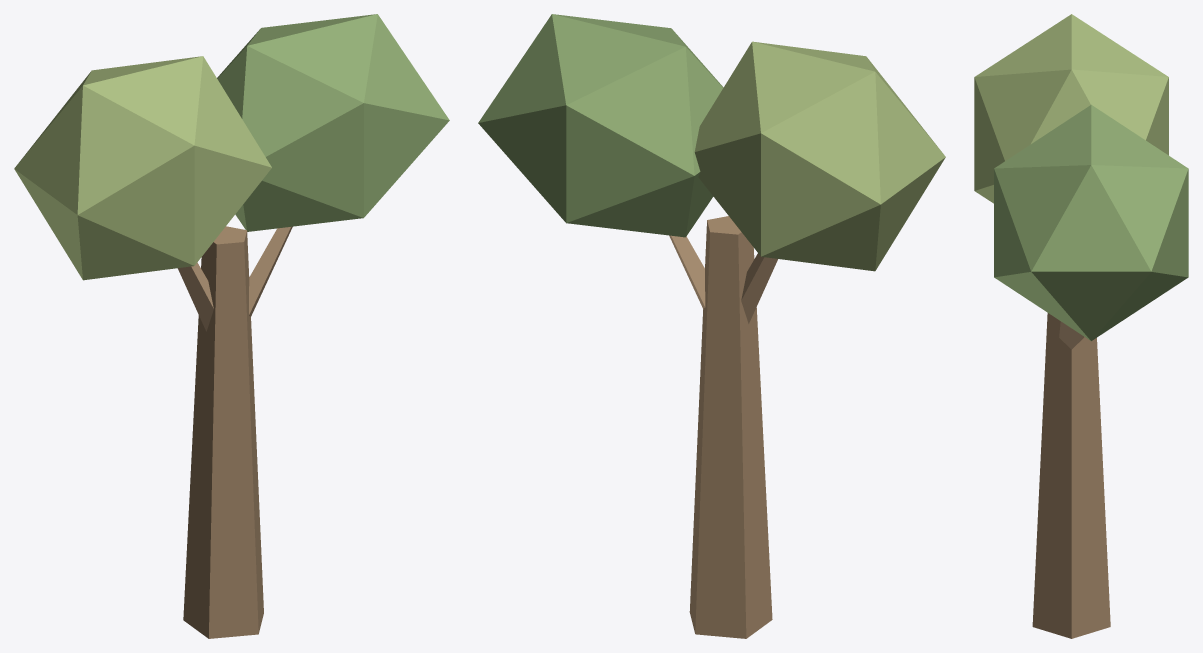
The picture shows the model from 3 angles, left to right: view 1: azimuth 30°, elevation 25°; view 2: azimuth 150°, elevation 25°; view 3: azimuth 270°, elevation 25°; orthographic projection. The views are drawn at different scales.
Visible parts, largest first — view 1: Body; view 2: Body; view 3: Body.
Part boxes in pixels (x1,y1,x2,y2): Body: (14,14,449,638); Body: (478,14,945,638); Body: (974,14,1188,638).
Bounding box in the file's own units: 2.34 × 3.34 × 1.2.
